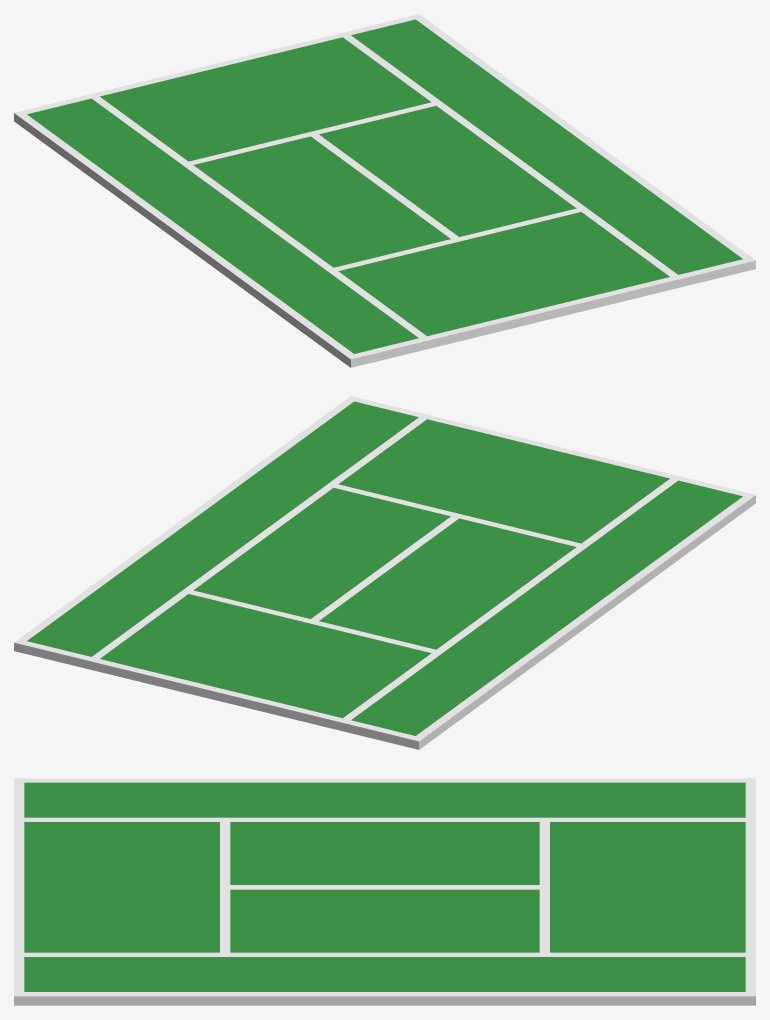
The model's file is Court1.fbx.
3 views of the same model, one above another, from view 1: azimuth 30°, elevation 25°; view 2: azimuth 150°, elevation 25°; view 3: azimuth 270°, elevation 25° (orthographic). The views are drawn at different scales.
Visible parts, largest first — view 1: mergedBlocks; view 2: mergedBlocks; view 3: mergedBlocks.
Boxes of the visible parts, x1,y1,x2,y2 form: mergedBlocks: (14,14,755,367); mergedBlocks: (14,396,755,749); mergedBlocks: (14,778,755,1005).
Size of the model in its own units: 50 by 1 by 72.
